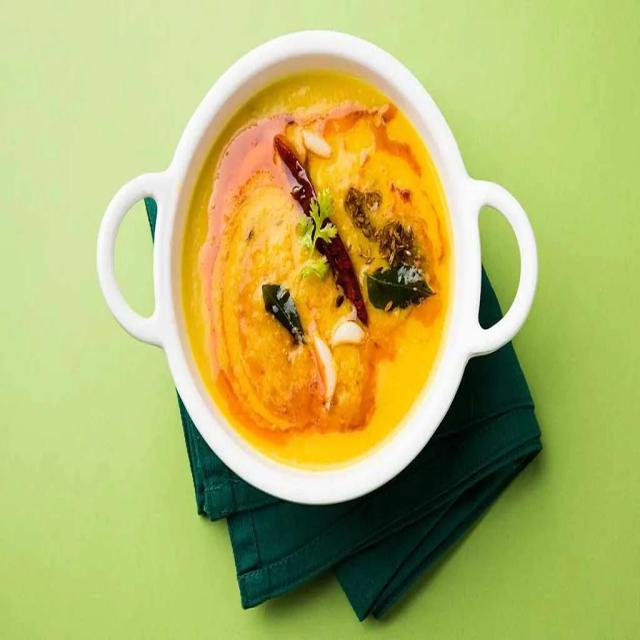dal: (178, 70, 458, 468)
